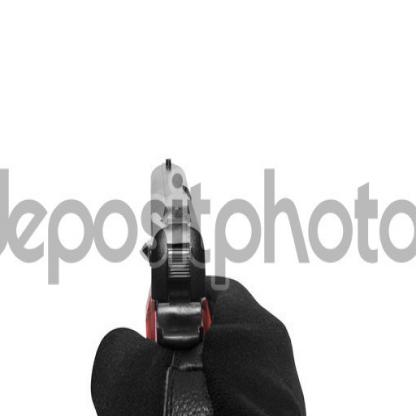gun: (140, 147, 214, 415)
